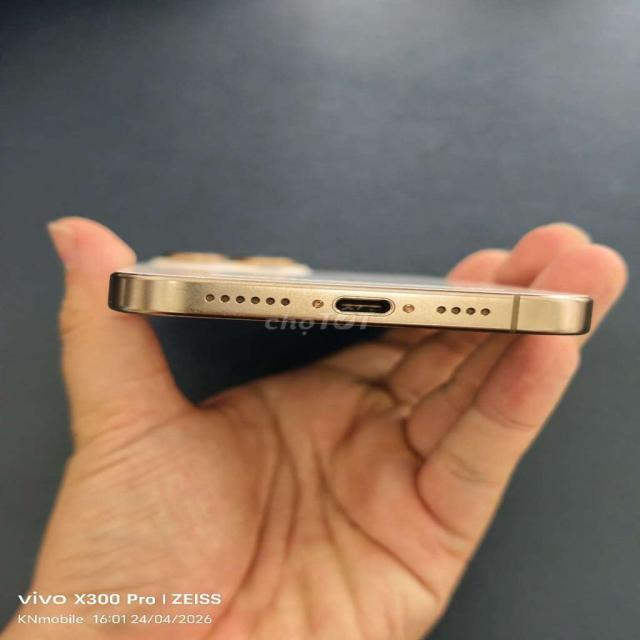gen_16: (108, 252, 592, 334)
